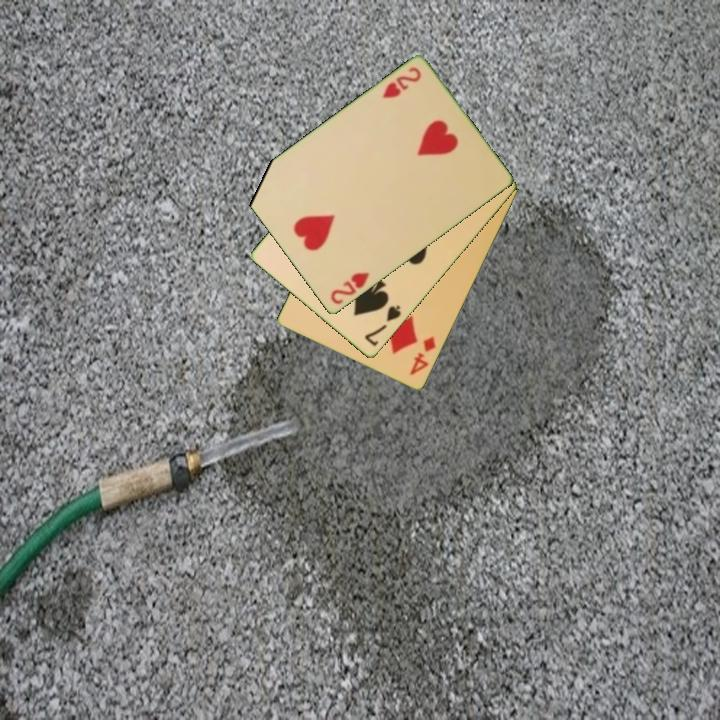2h: (327, 269, 372, 308), (379, 64, 424, 102)
4d: (407, 333, 439, 379)
7s: (361, 302, 404, 350)
